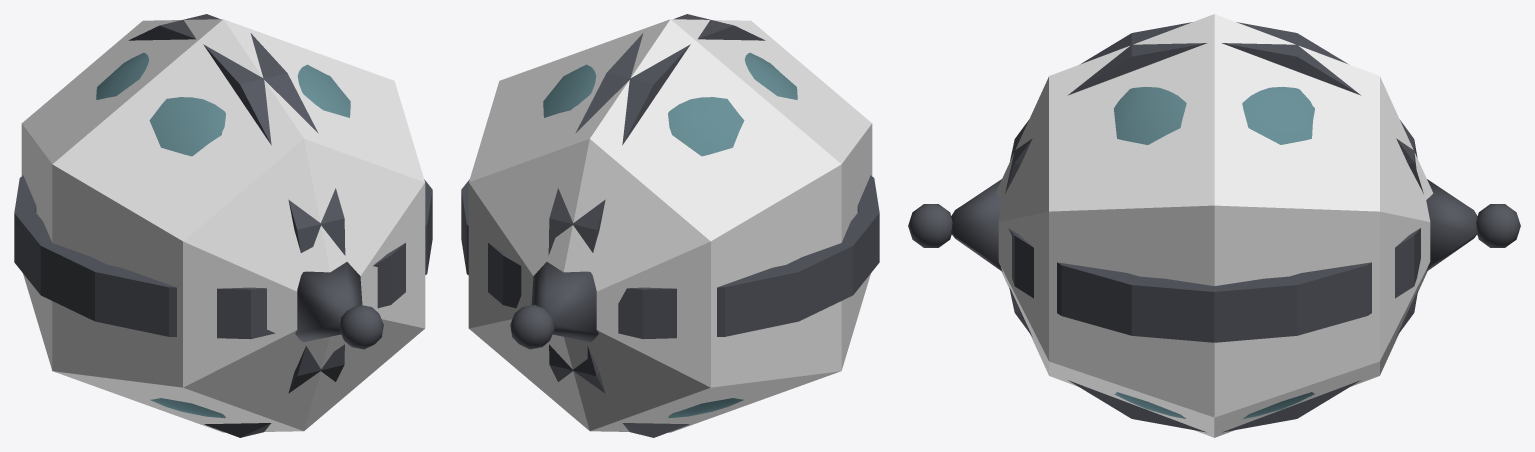
File: ElectroMag.Sma.01.fbx
3 renders of one model, left to right at view 1: azimuth 30°, elevation 25°; view 2: azimuth 150°, elevation 25°; view 3: azimuth 270°, elevation 25°, orthographic. The views are drawn at different scales.
Visible parts, largest first — view 1: A.ElecMag.Sma.01, B.ElecMag.Sma.01; view 2: A.ElecMag.Sma.01, B.ElecMag.Sma.01; view 3: A.ElecMag.Sma.01, B.ElecMag.Sma.01.
Boxes of the visible parts, x1=… form: A.ElecMag.Sma.01: x1=21, y1=19, x2=425, y2=432; B.ElecMag.Sma.01: x1=14, y1=14, x2=432, y2=437; A.ElecMag.Sma.01: x1=468, y1=19, x2=872, y2=432; B.ElecMag.Sma.01: x1=461, y1=14, x2=879, y2=437; A.ElecMag.Sma.01: x1=995, y1=14, x2=1433, y2=437; B.ElecMag.Sma.01: x1=908, y1=22, x2=1520, y2=432.
Size of the model in its own units: 67.5 by 73 by 95.64.
